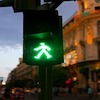green: (32, 41, 55, 59)
